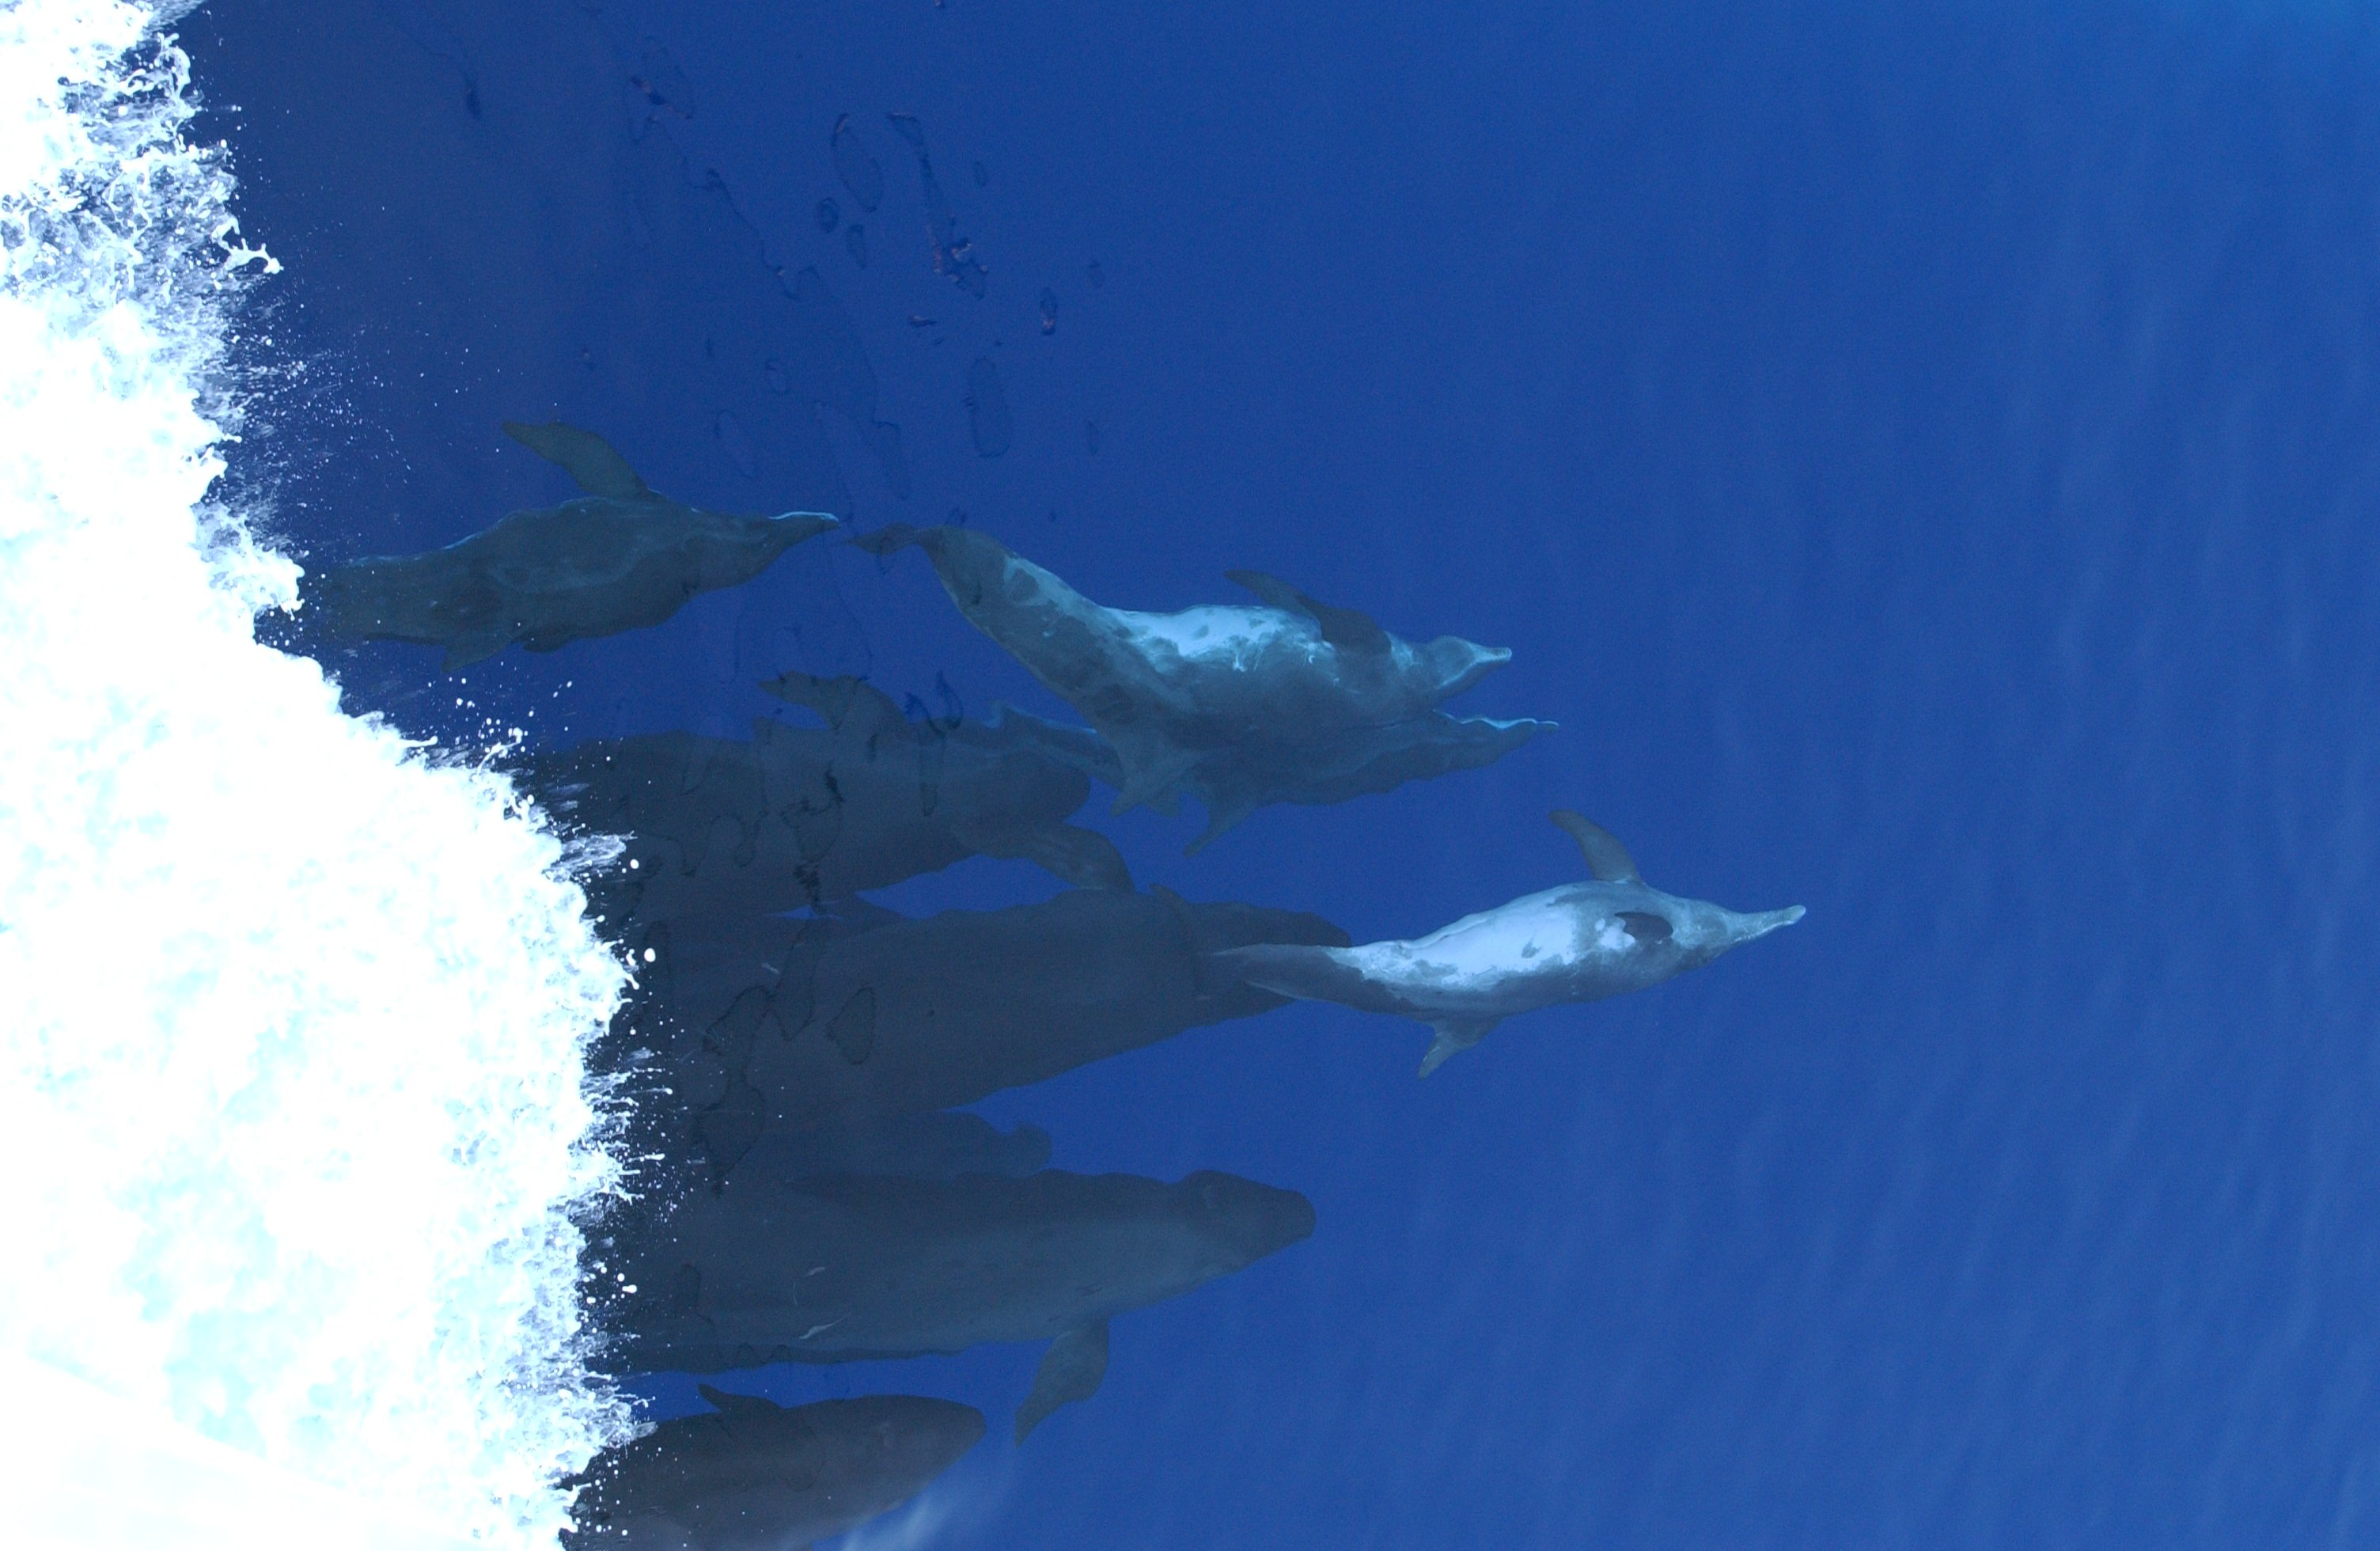dolphin: (1154, 815, 1808, 1063), (860, 505, 1513, 699), (279, 434, 836, 645)
